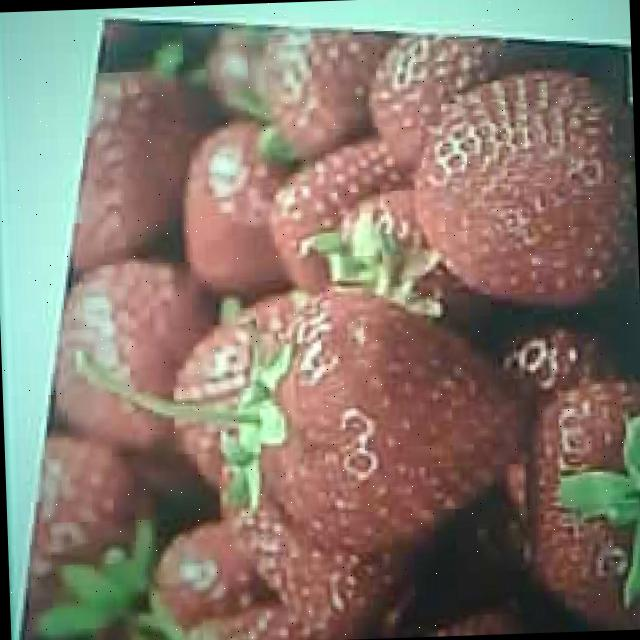strawberry: (258, 291, 533, 552), (420, 68, 640, 310)
